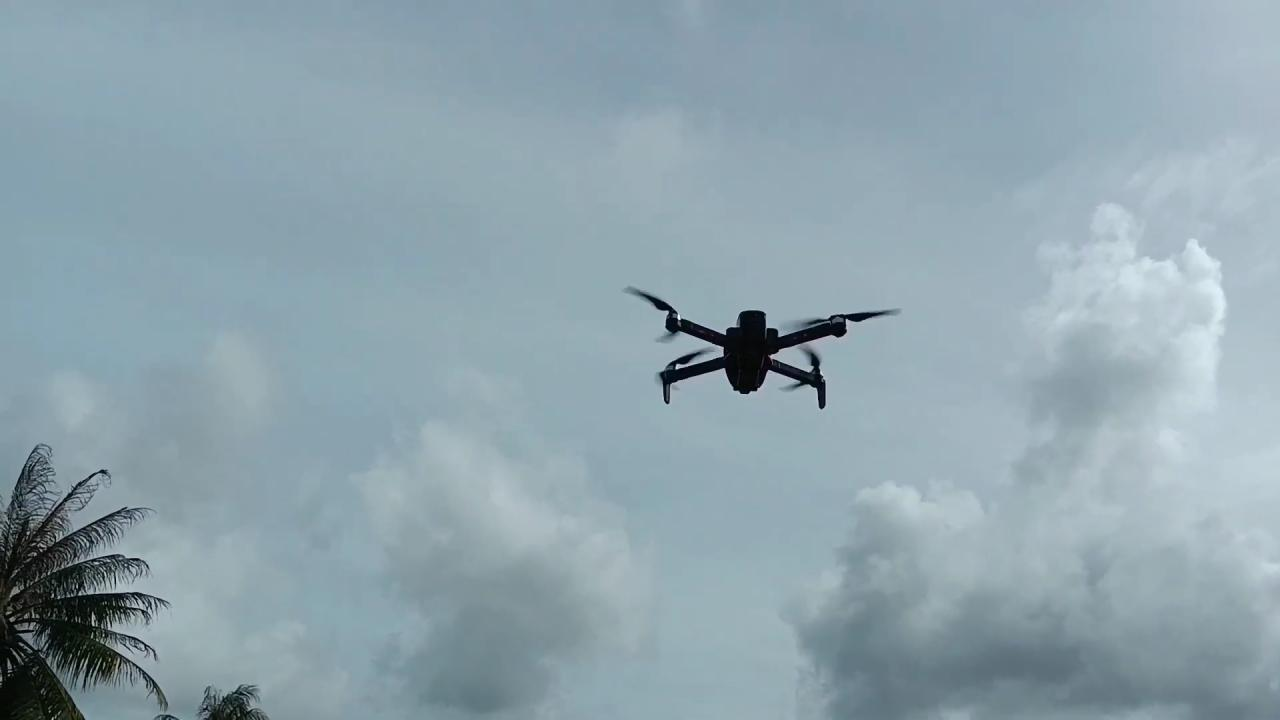Drone: (610, 274, 906, 421)
